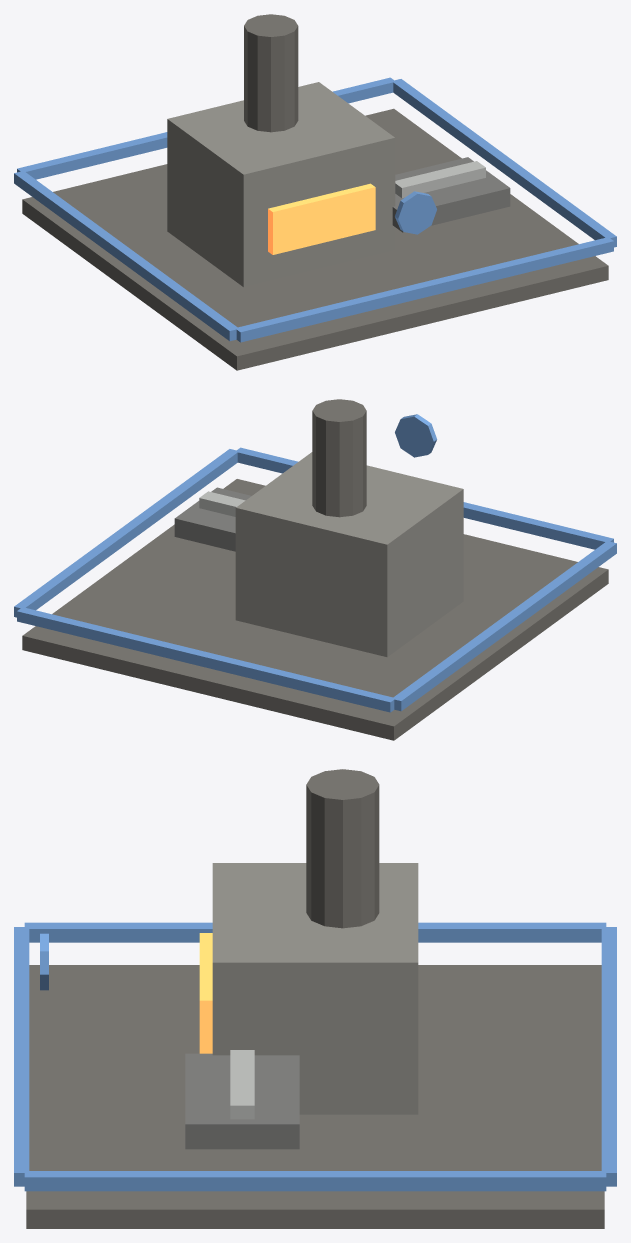
Rendered from t4_smelter.glb.
3 views of the same model, one above another, from view 1: azimuth 30°, elevation 25°; view 2: azimuth 150°, elevation 25°; view 3: azimuth 270°, elevation 25° (orthographic). The views are drawn at different scales.
Parts seen in each view (by area): view 1: FootprintBase, FurnaceBody, Chimney, TierFrontTrim, HearthGlow, TierLeftTrim, TierRightTrim, IngotTray, TierBackTrim, TierEmblem, Ingot, Ingot.002; view 2: FootprintBase, FurnaceBody, Chimney, TierBackTrim, TierLeftTrim, TierRightTrim, TierFrontTrim, IngotTray, TierEmblem, Ingot.003; view 3: FootprintBase, FurnaceBody, TierRightTrim, Chimney, IngotTray, TierLeftTrim, TierFrontTrim, TierBackTrim, HearthGlow, Ingot.003.
Boxes of the visible parts, box(x1,y1,x2,y2) form: FootprintBase: box(22, 108, 608, 370); FurnaceBody: box(167, 82, 395, 287); Chimney: box(244, 14, 298, 132); TierFrontTrim: box(235, 238, 613, 342); HearthGlow: box(268, 183, 375, 254); TierLeftTrim: box(14, 171, 238, 341); TierRightTrim: box(392, 79, 616, 247); IngotTray: box(392, 157, 510, 232); TierBackTrim: box(17, 77, 395, 179); TierEmblem: box(395, 191, 436, 234); Ingot: box(395, 174, 433, 198); Ingot.002: box(437, 165, 468, 189); FootprintBase: box(22, 479, 608, 740); FurnaceBody: box(235, 452, 463, 657); Chimney: box(312, 399, 366, 517); TierBackTrim: box(17, 608, 394, 712); TierLeftTrim: box(392, 541, 616, 711); TierRightTrim: box(14, 449, 238, 617); TierFrontTrim: box(235, 447, 613, 549); IngotTray: box(174, 487, 251, 551); TierEmblem: box(395, 414, 437, 457); Ingot.003: box(199, 491, 238, 515); FootprintBase: box(26, 965, 604, 1228); FurnaceBody: box(212, 863, 418, 1114); TierRightTrim: box(24, 1171, 606, 1191); Chimney: box(306, 769, 379, 928); IngotTray: box(185, 1053, 299, 1149); TierLeftTrim: box(24, 922, 606, 942); TierFrontTrim: box(14, 927, 29, 1186); TierBackTrim: box(601, 927, 616, 1186); HearthGlow: box(199, 933, 212, 1053); Ingot.003: box(230, 1085, 254, 1119).
Size of the model in its own units: 3.96 by 2.17 by 3.96.
